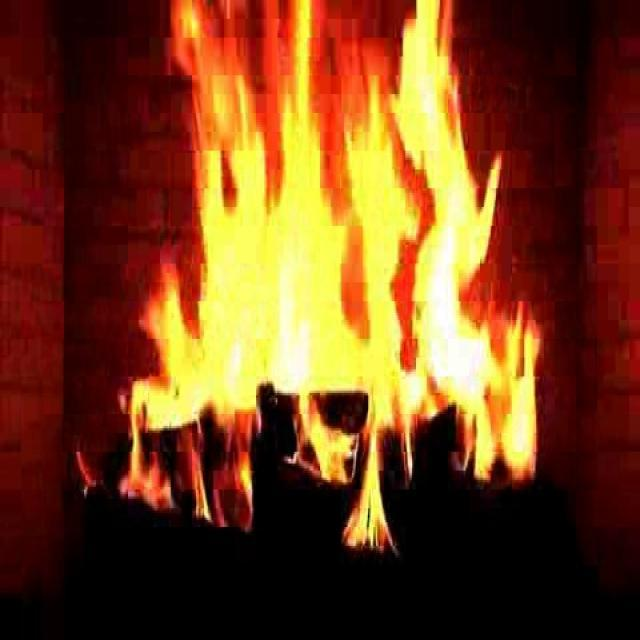Fire: (128, 15, 512, 522)
